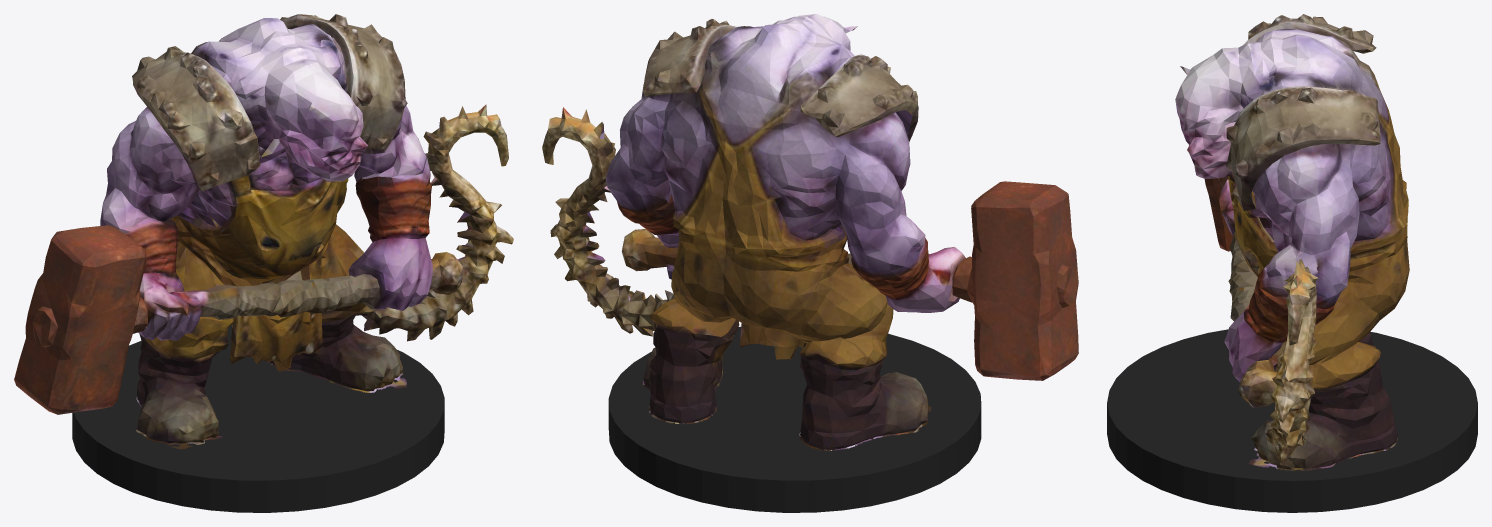
File: aberrant-hypermorph.glb
3 renders of one model, left to right at view 1: azimuth 30°, elevation 25°; view 2: azimuth 150°, elevation 25°; view 3: azimuth 270°, elevation 25°, orthographic.
Parts seen in each view (by area): view 1: figure, base; view 2: figure, base; view 3: figure, base.
Boxes of the visible parts, <box> form: figure: <box>14,14,513,449</box>; base: <box>72,325,444,512</box>; figure: <box>542,14,1078,450</box>; base: <box>608,326,981,512</box>; figure: <box>1175,14,1409,470</box>; base: <box>1107,329,1477,512</box>.
Bounding box in the file's own units: 1.95 × 1.52 × 1.26.
2 materials, 1 textured.
